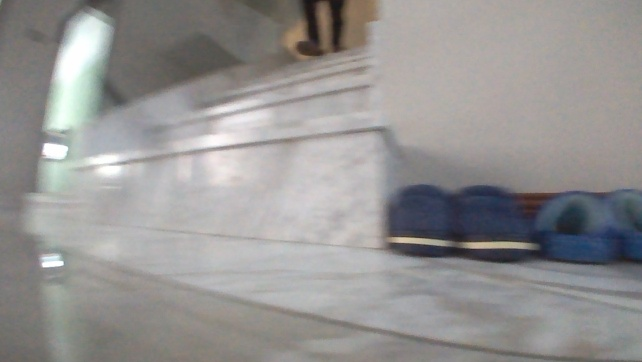slipper: (529, 189, 620, 266)
